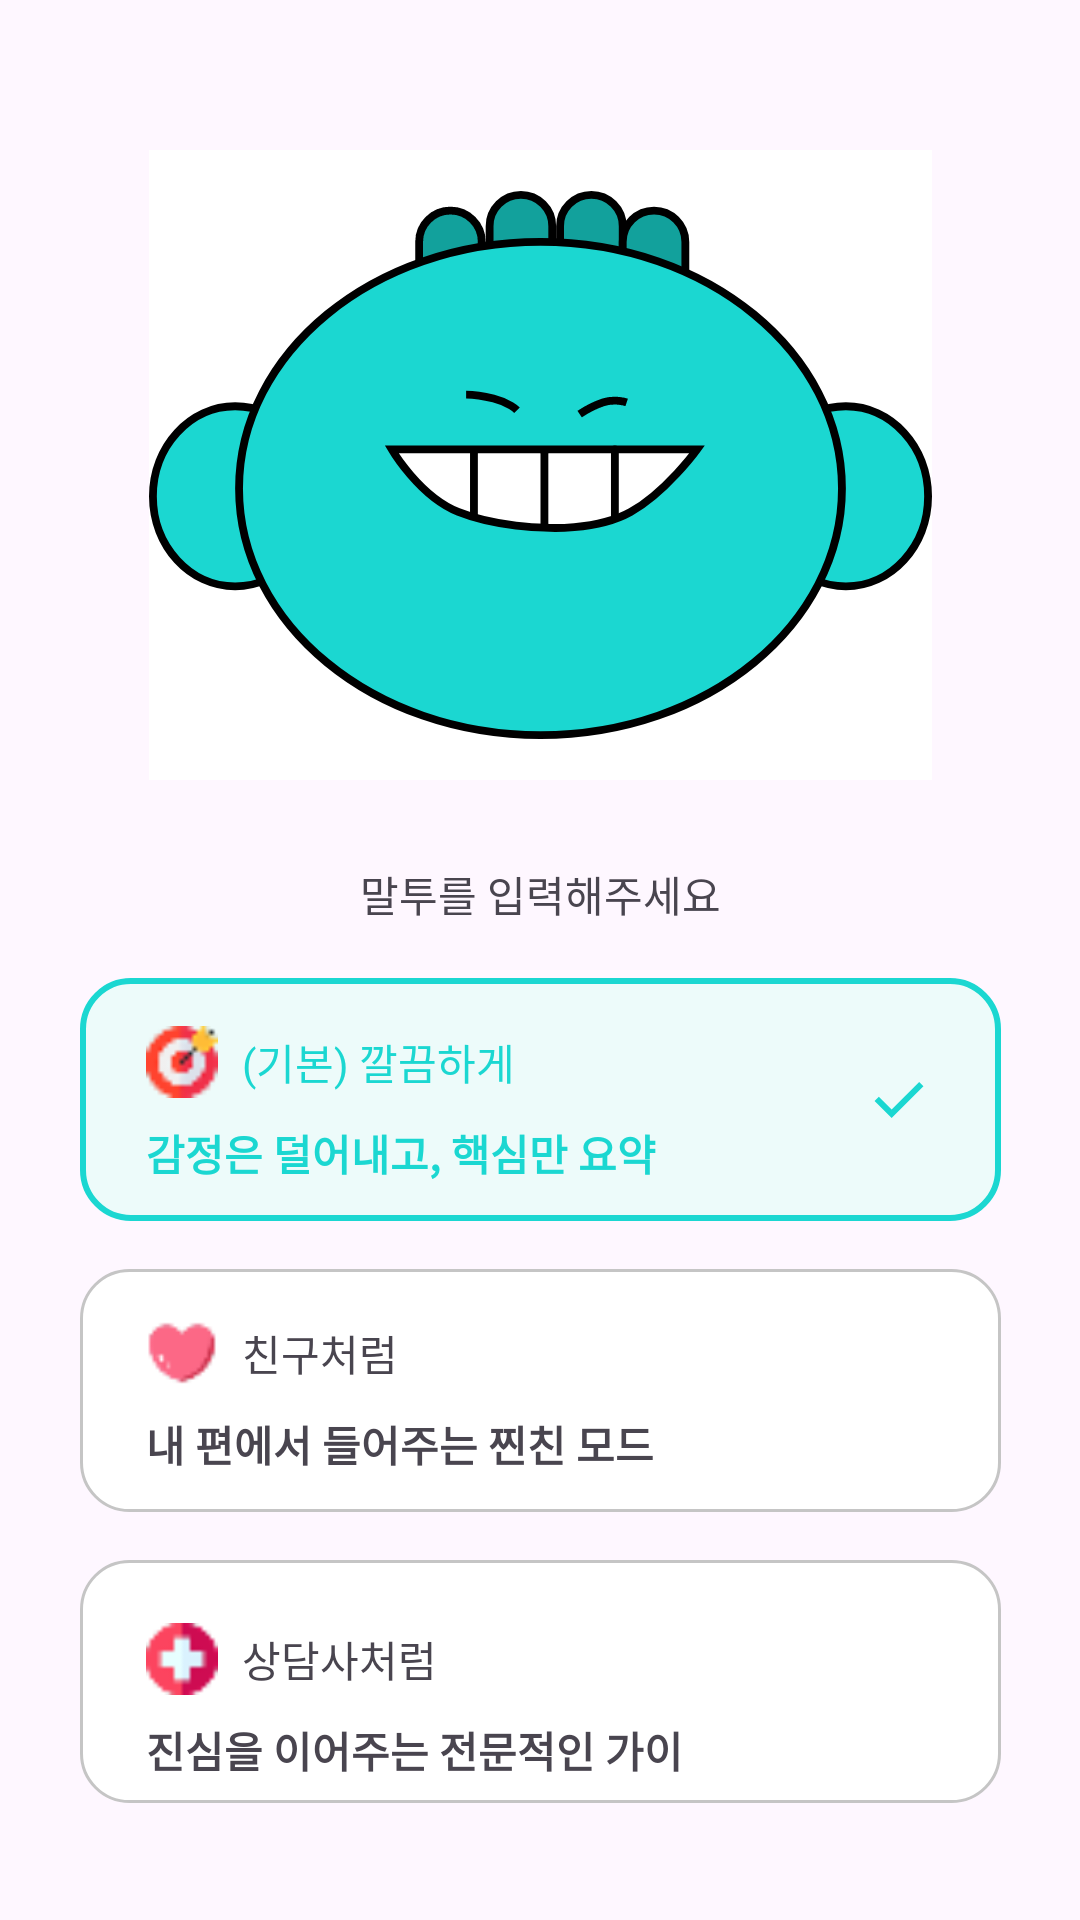

Named icons in this screenshot (1080 × 1920) and their centers, (x=x, y=y):
check: (x=899, y=1100)
